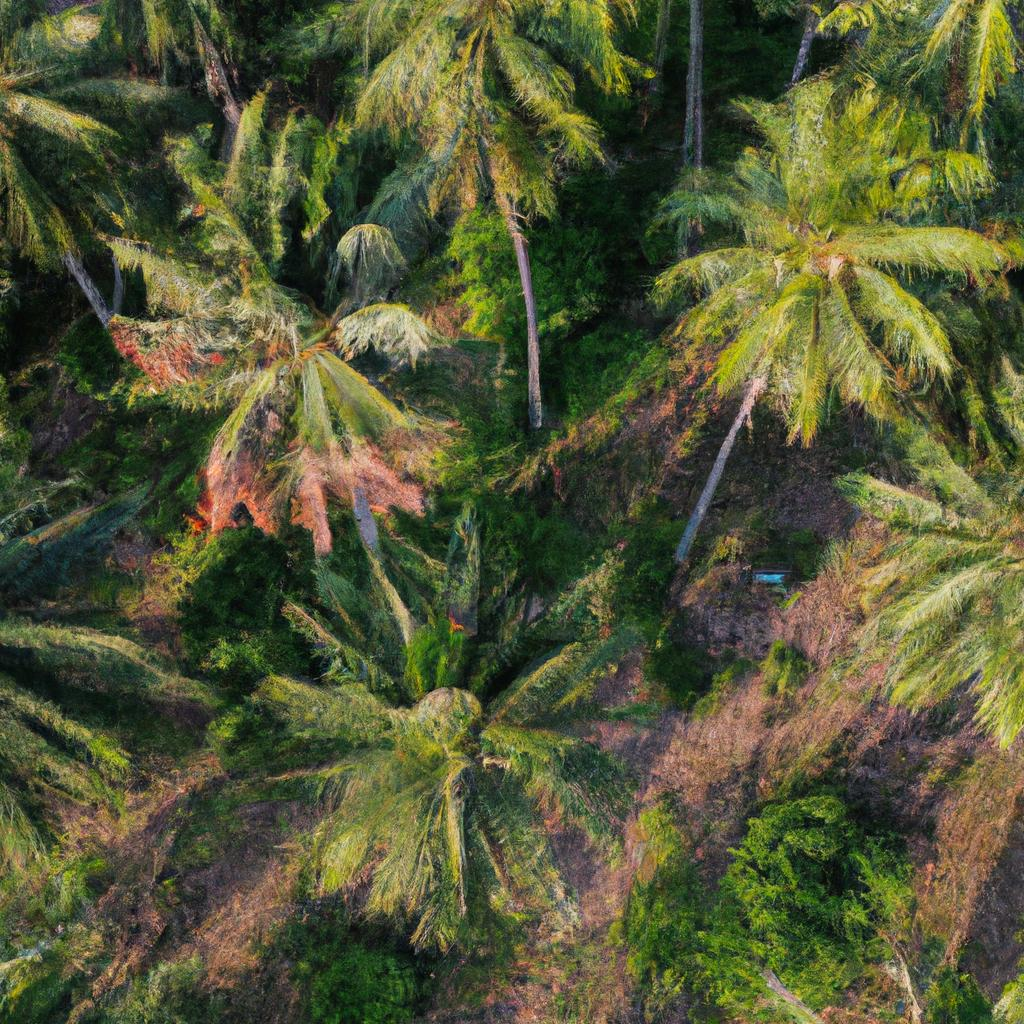coconut_tree: (200, 540, 692, 953), (71, 199, 511, 562), (639, 62, 990, 445)
